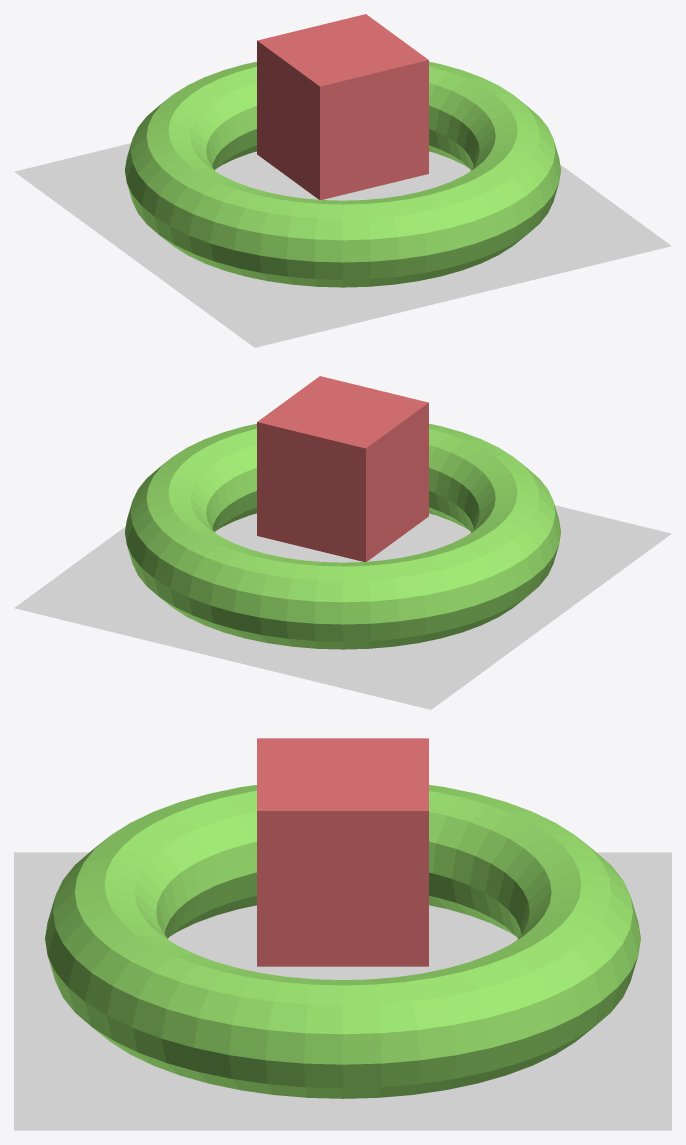
The model's file is optimized_test_gltf.gltf.
3 renders of one model, top to bottom at view 1: azimuth 30°, elevation 25°; view 2: azimuth 150°, elevation 25°; view 3: azimuth 270°, elevation 25°, orthographic. The views are drawn at different scales.
Visible parts, largest first — view 1: Torus, Plane, Cube; view 2: Torus, Plane, Cube; view 3: Torus, Plane, Cube.
Part boxes in pixels (<box>): Torus: <box>125,61,560,287</box>; Plane: <box>14,143,671,347</box>; Cube: <box>257,14,428,199</box>; Torus: <box>125,423,560,649</box>; Plane: <box>14,505,671,709</box>; Cube: <box>257,376,428,561</box>; Torus: <box>45,785,640,1098</box>; Plane: <box>14,852,671,1130</box>; Cube: <box>257,738,428,966</box>.
Bounding box in the file's own units: 0.1556 × 0.0569 × 0.1556.
